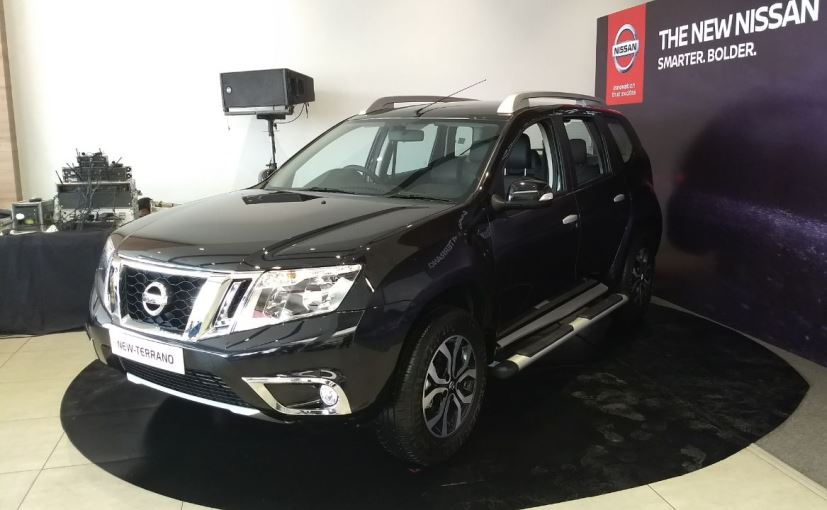number_plate: (103, 324, 196, 377)
